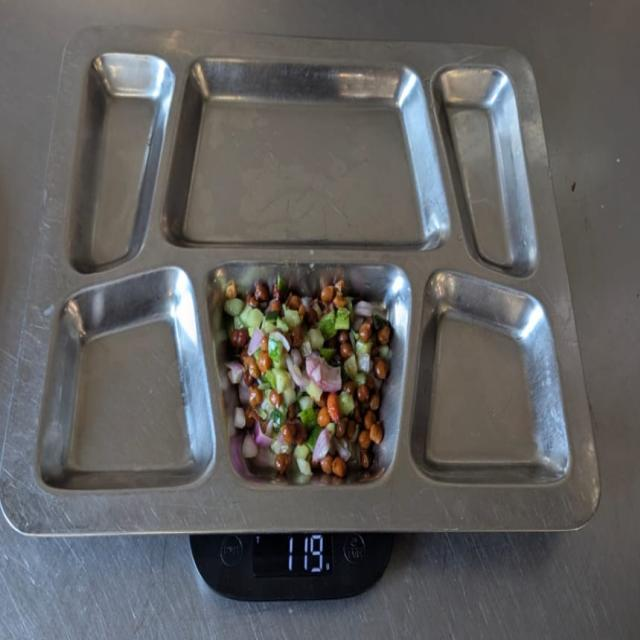Chaat: (223, 279, 393, 479)
